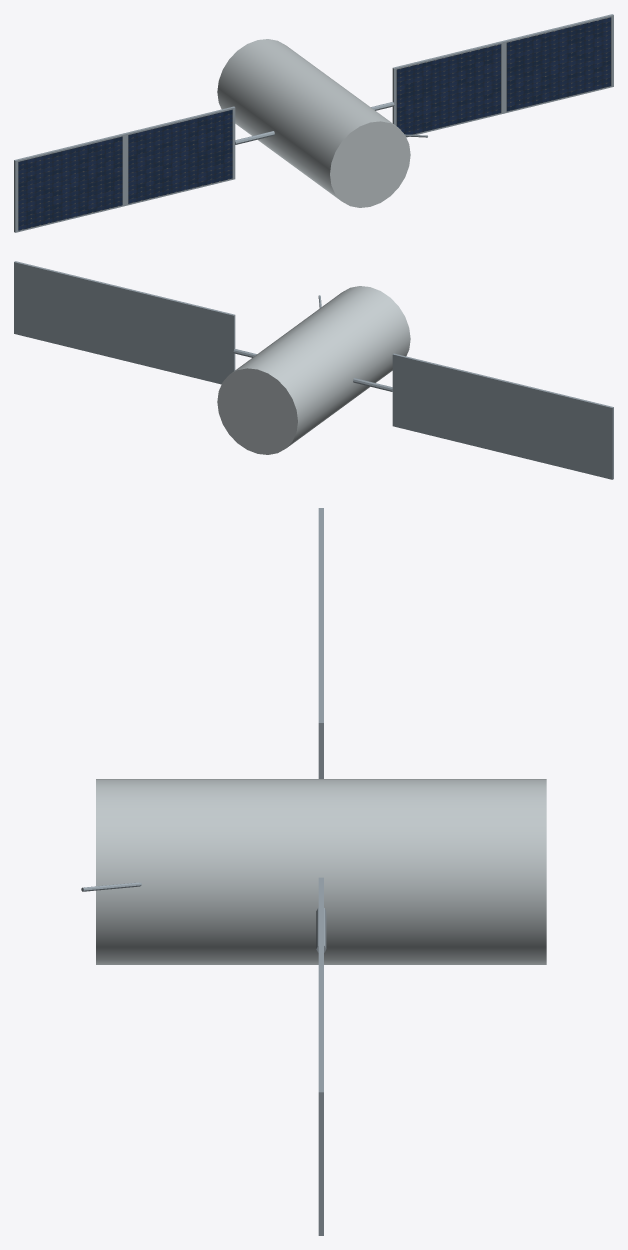
The model's file is ref-kaur-1-11f666-12879.glb.
The picture shows the model from 3 angles, top to bottom: view 1: azimuth 30°, elevation 25°; view 2: azimuth 150°, elevation 25°; view 3: azimuth 270°, elevation 25°; orthographic projection. The views are drawn at different scales.
Parts seen in each view (by area): view 1: Photovoltaic laminates (×4), Spacecraft body, Array frame (×4); view 2: Array frame (×4), Spacecraft body; view 3: Spacecraft body, Array frame (×2).
Part boxes in pixels (x1,y1,x2,y2): Photovoltaic laminates (×4): [18, 17, 611, 230]; Spacecraft body: [217, 39, 410, 207]; Array frame (×4): [14, 14, 613, 232]; Array frame (×4): [14, 261, 613, 479]; Spacecraft body: [217, 286, 410, 454]; Spacecraft body: [96, 779, 546, 964]; Array frame (×2): [318, 615, 323, 1235].
Size of the model in its own units: 17.8 by 2.4 by 5.99.
Materials: 3 (1 with a texture image).
